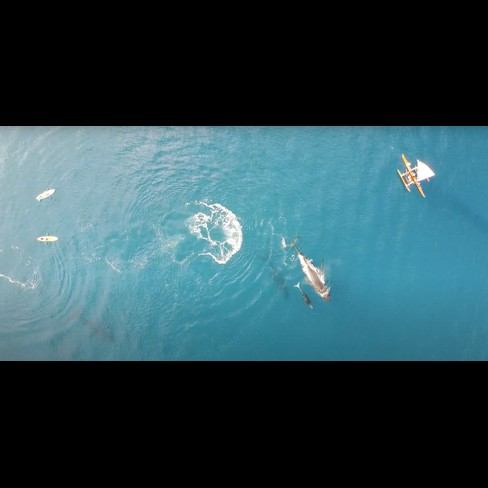boat: (394, 150, 438, 204)
hump: (283, 232, 334, 304), (294, 280, 320, 315)
